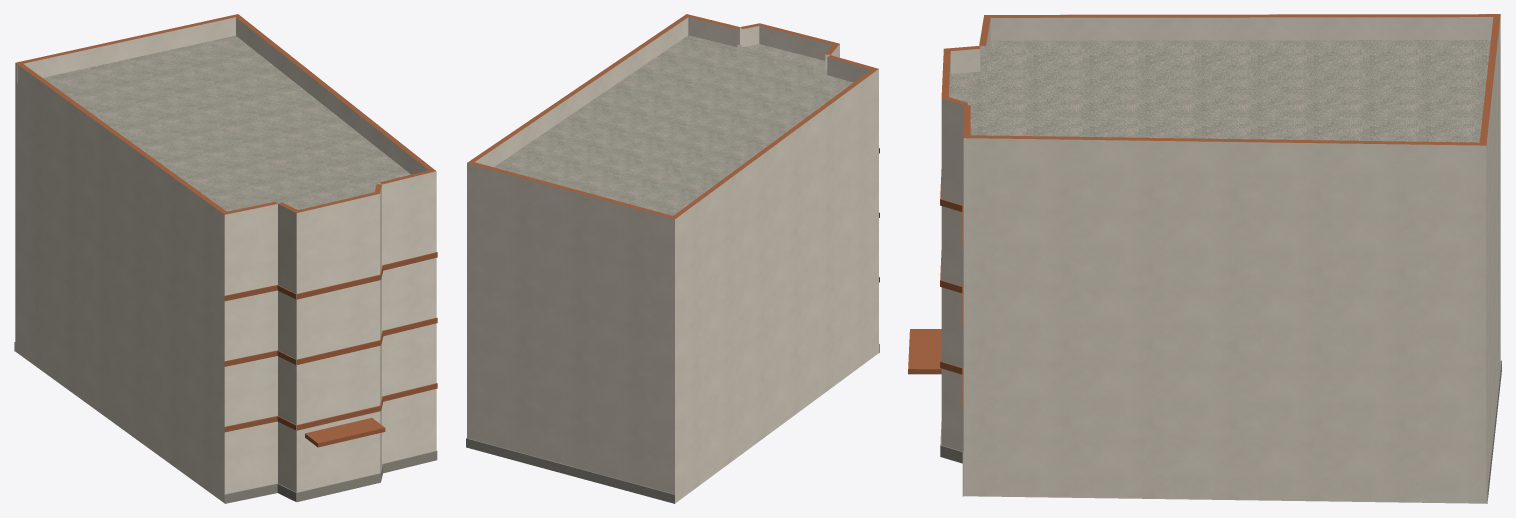
The picture shows the model from 3 angles, left to right: view 1: azimuth 30°, elevation 25°; view 2: azimuth 150°, elevation 25°; view 3: azimuth 270°, elevation 25°; orthographic projection. The views are drawn at different scales.
Visible parts, largest first — view 1: B-w1259462253_muros, B-w1259462253_lejos, B-w1259462253_cubierta, B-w1259462253_molduras, B-w1259462253_remates; view 2: B-w1259462253_muros, B-w1259462253_lejos, B-w1259462253_cubierta, B-w1259462253_molduras; view 3: B-w1259462253_muros, B-w1259462253_lejos, B-w1259462253_cubierta, B-w1259462253_molduras, B-w1259462253_remates.
Boxes of the visible parts, x1,y1,x2,y2 form: B-w1259462253_muros: (15,63,436,502); B-w1259462253_lejos: (15,85,436,502); B-w1259462253_cubierta: (15,14,435,214); B-w1259462253_molduras: (14,252,437,503); B-w1259462253_remates: (305,418,385,447); B-w1259462253_muros: (467,27,878,502); B-w1259462253_lejos: (571,87,878,503); B-w1259462253_cubierta: (467,14,878,218); B-w1259462253_molduras: (466,148,879,503); B-w1259462253_muros: (941,14,1500,503); B-w1259462253_lejos: (941,40,1500,503); B-w1259462253_cubierta: (941,14,1500,168); B-w1259462253_molduras: (940,169,1501,503); B-w1259462253_remates: (908,329,941,374).
Size of the model in its own units: 11.14 by 14.1 by 21.18.
5 materials, 2 textured.
